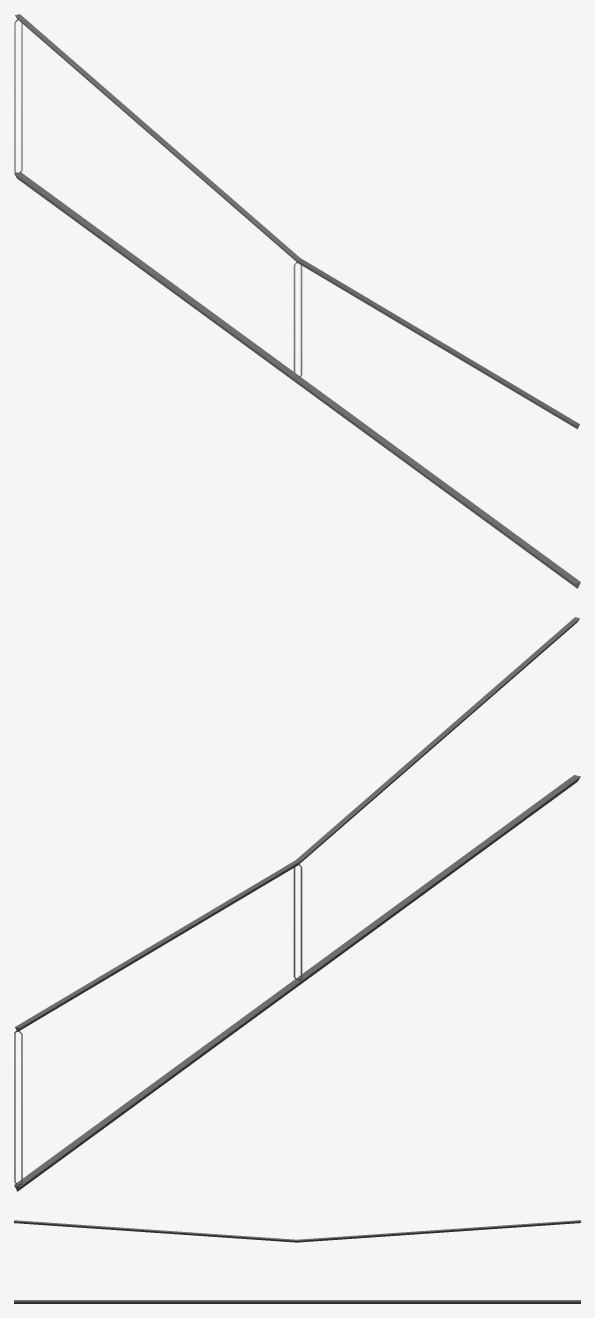
File: SINGLE_KASEN_12_5.glb
3 renders of one model, top to bottom at view 1: azimuth 30°, elevation 25°; view 2: azimuth 150°, elevation 25°; view 3: azimuth 270°, elevation 25°, orthographic. The views are drawn at different scales.
Visible parts, largest first — view 1: Line5; view 2: Line5; view 3: Line5.
Part boxes in pixels (x1,y1,x2,y2): Line5: (14, 14, 580, 588); Line5: (14, 617, 580, 1191); Line5: (14, 1220, 580, 1303).
Bounding box in the file's own units: 0.11 × 2.03 × 12.53.
2 materials, 1 textured.
